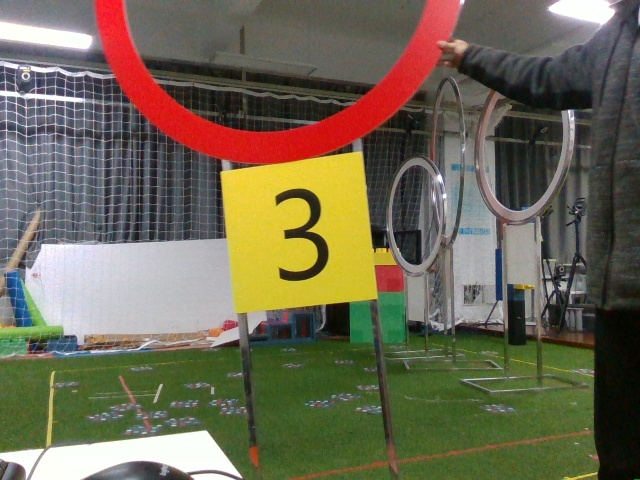target: (228, 169, 365, 298)
